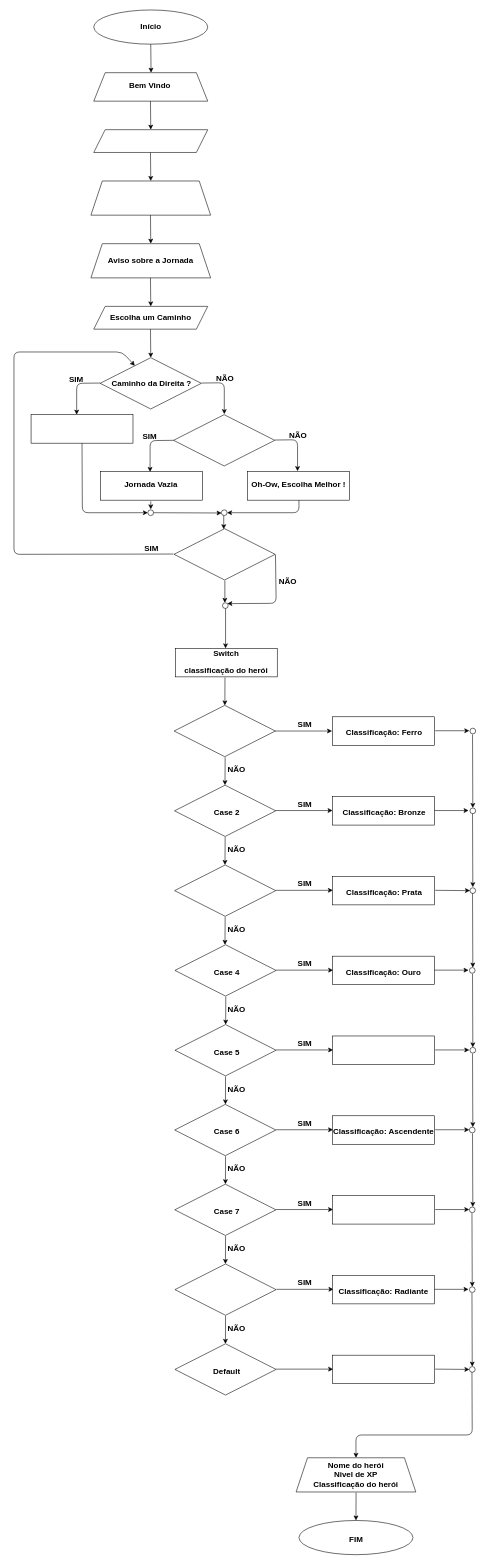
The diagram is 487 pixels wide and 1565 high, and some of its shapes have lost their labels. The shapes that lost their labels are listed below. From the top down, each one's box as (x1, y1, x2, y2) in pixels, then its label:
(93, 129, 208, 152): Escolha um Nome para o Herói
(90, 180, 211, 215): Nível de XP Atual
(30, 414, 133, 443): Item Adquirido
(173, 414, 275, 466): Caminho da Esquerda?
(173, 528, 275, 580): Você tem mais uma chance, Aceita?
(174, 705, 275, 757): Case 1
(174, 864, 276, 916): Case 3
(332, 1035, 435, 1064): Classificação: Platina
(332, 1195, 435, 1224): Classificação: Imortal
(174, 1263, 276, 1315): Case 8
(332, 1355, 435, 1384): Classificação: Girino
